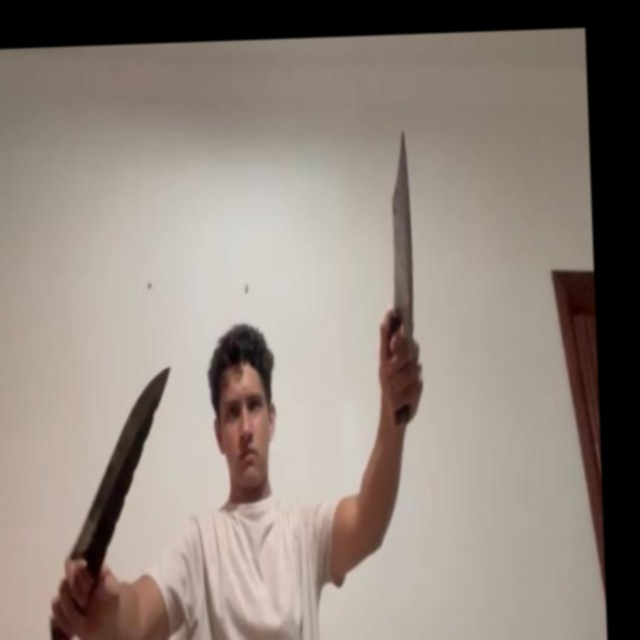Sharp-Object: (65, 364, 177, 568), (387, 130, 416, 345)
